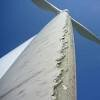faulty: (54, 22, 77, 87)
